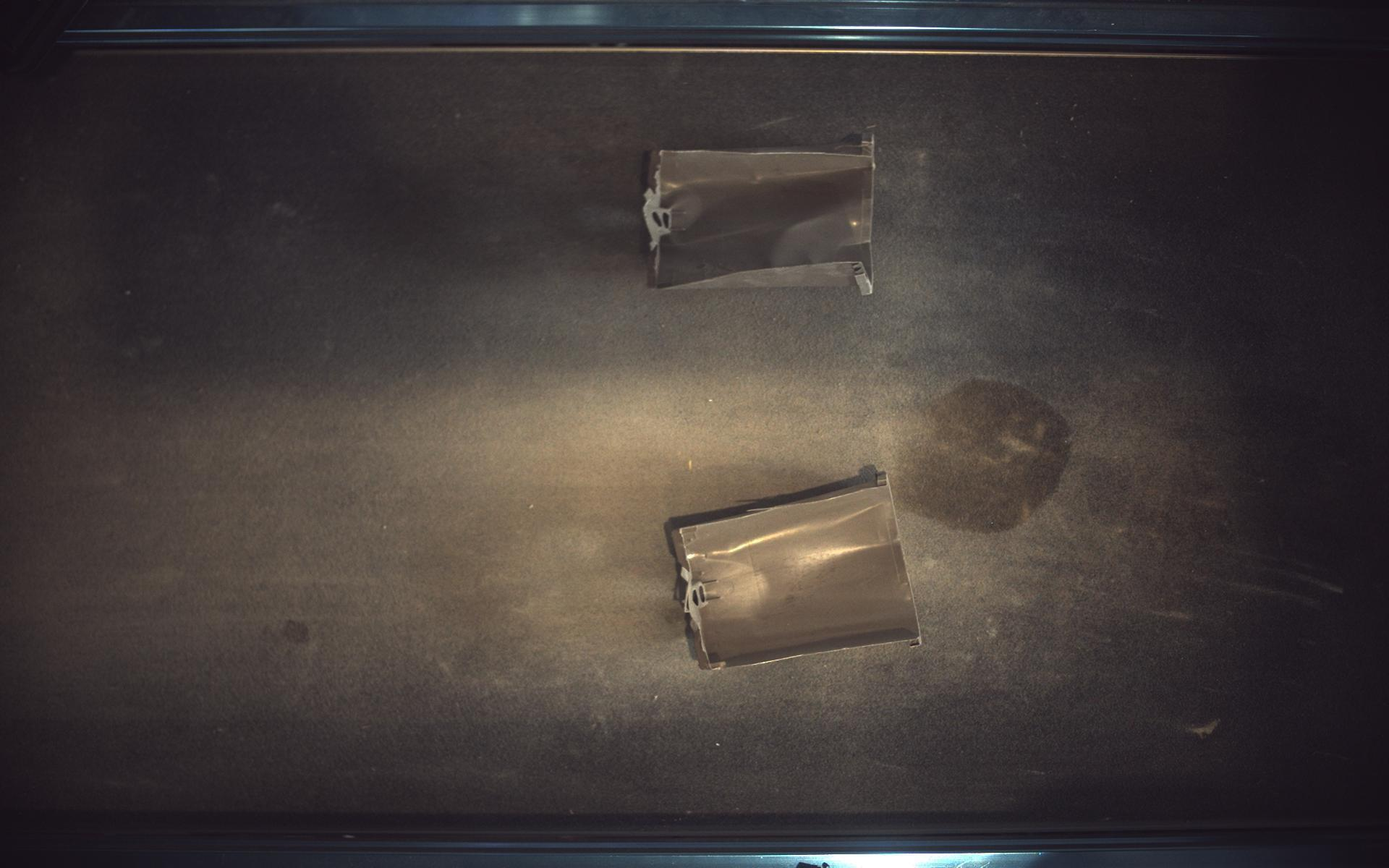general_w: (667, 467, 922, 671), (643, 128, 876, 294)
